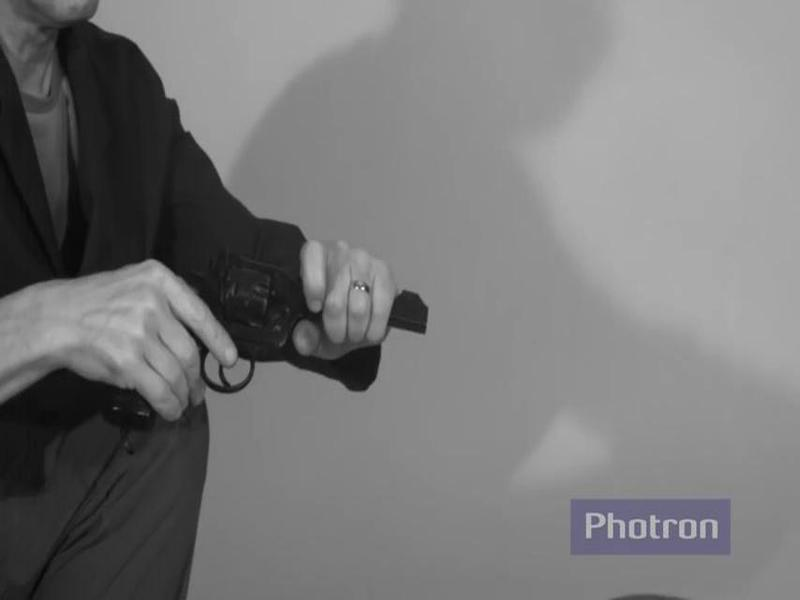Revolver: (127, 223, 439, 447)
